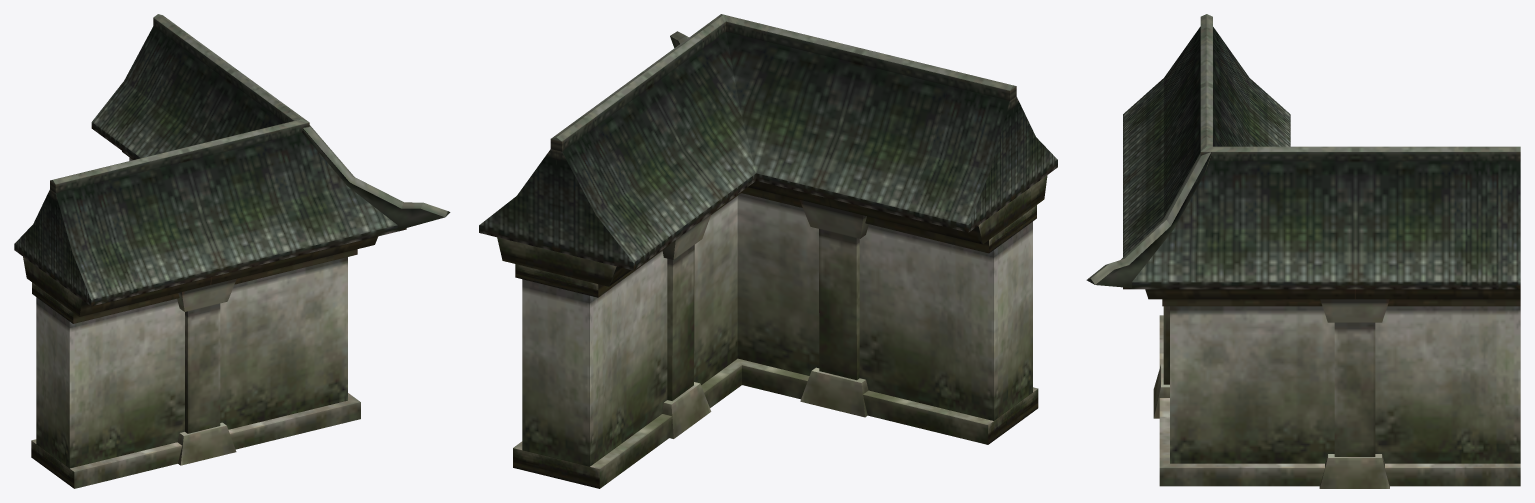
Rendered from ob-10-02-wall-corner.glb.
3 renders of one model, left to right at view 1: azimuth 30°, elevation 25°; view 2: azimuth 150°, elevation 25°; view 3: azimuth 270°, elevation 25°, orthographic. The views are drawn at different scales.
Parts seen in each view (by area): view 1: Sphere01; view 2: Sphere01; view 3: Sphere01.
Part boxes in pixels (left/top/right/bottom): Sphere01: left=14, top=14, right=450, bottom=488; Sphere01: left=479, top=14, right=1057, bottom=488; Sphere01: left=1086, top=14, right=1520, bottom=488.
Bounding box in the file's own units: 5.56 × 4.5 × 5.54.
1 material, 1 textured.
